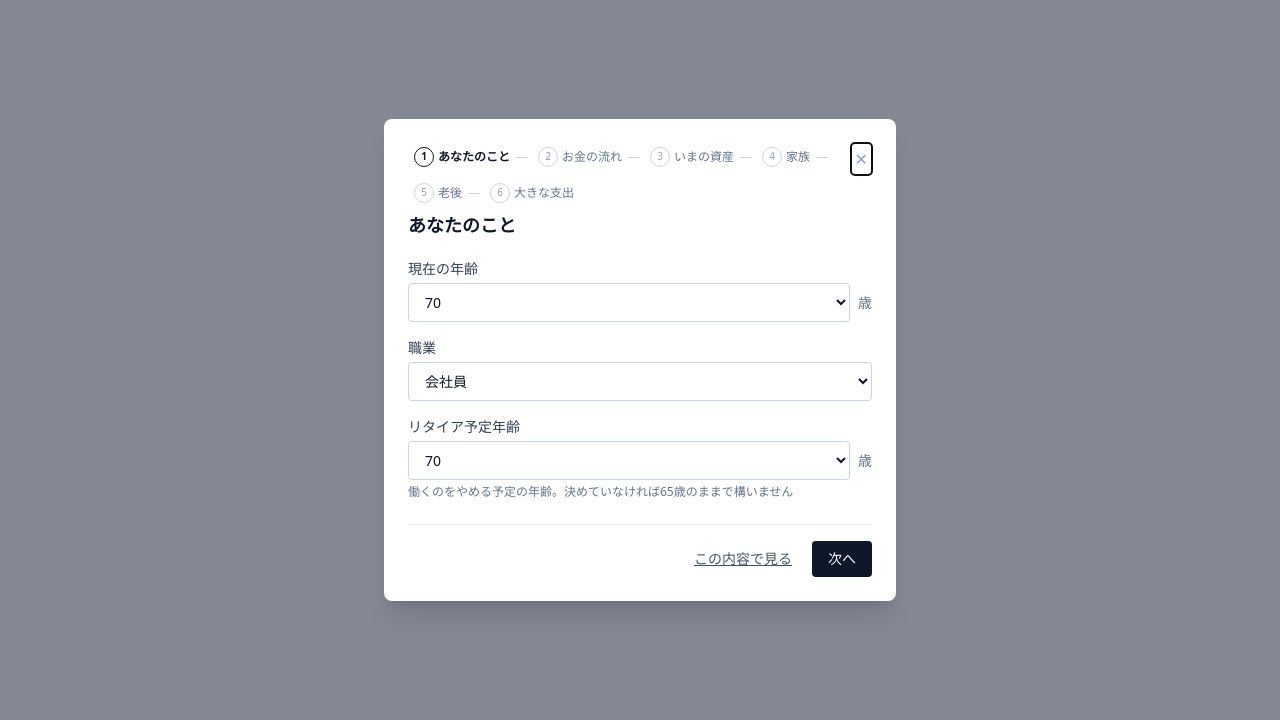
黙って間違う条件の警告（Finding C1） › Step 4: 年金受給開始年齢が現在年齢を下回ると警告が出る
Click the button "次へ". click: point(842, 559)
box: [812,541,872,577]
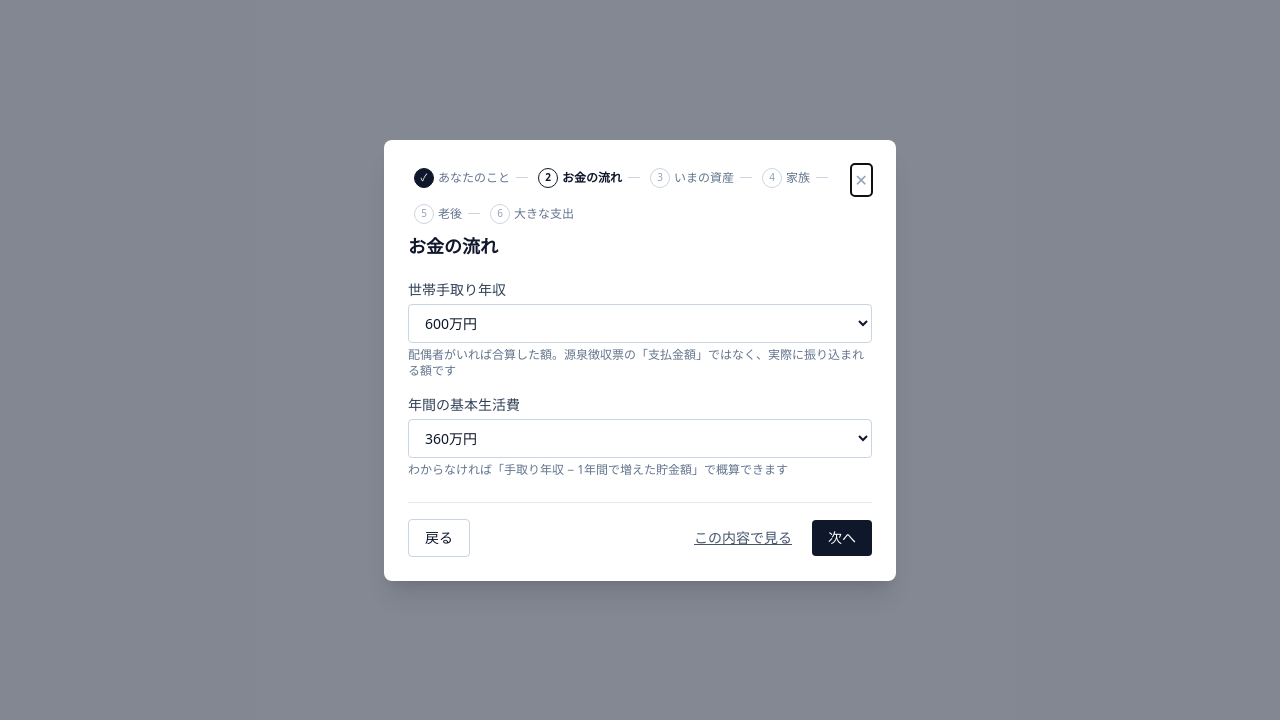
Click the button "次へ". click: point(842, 538)
box: [812,520,872,556]
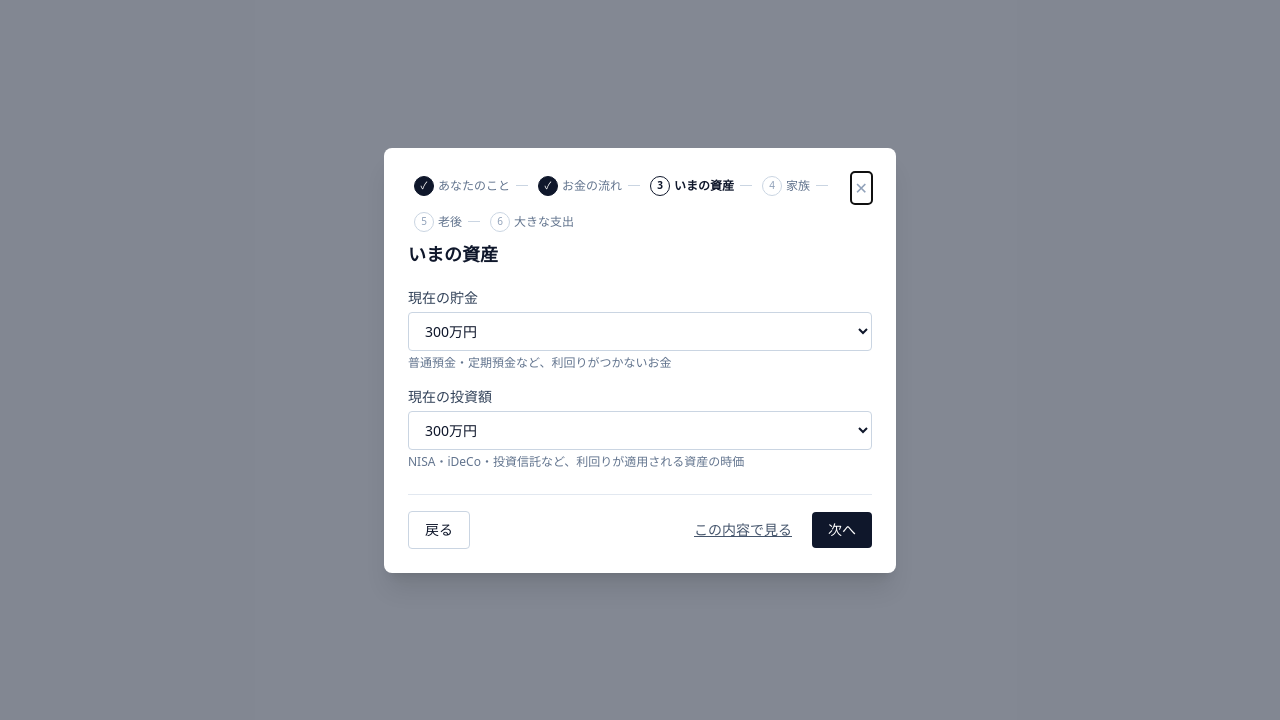
Click the button "次へ". click: point(842, 530)
box: [812,512,872,548]
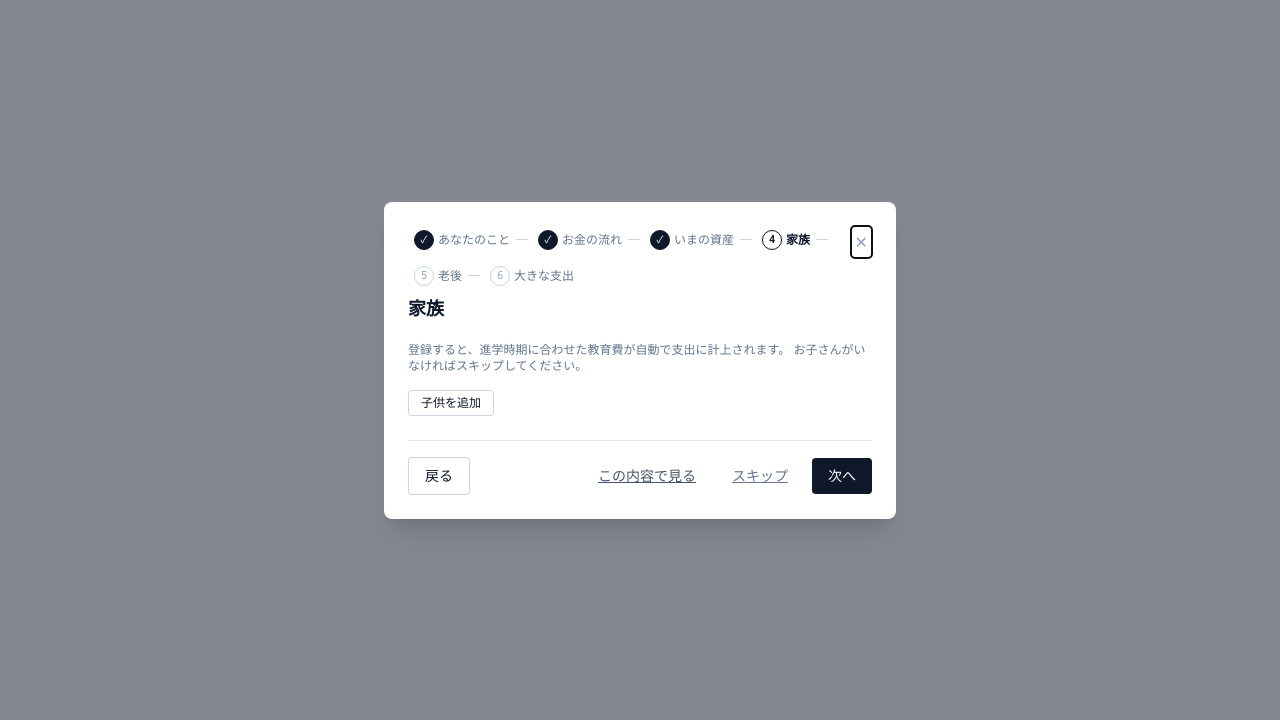
Click the button "次へ". click: point(842, 476)
box: [812,458,872,494]
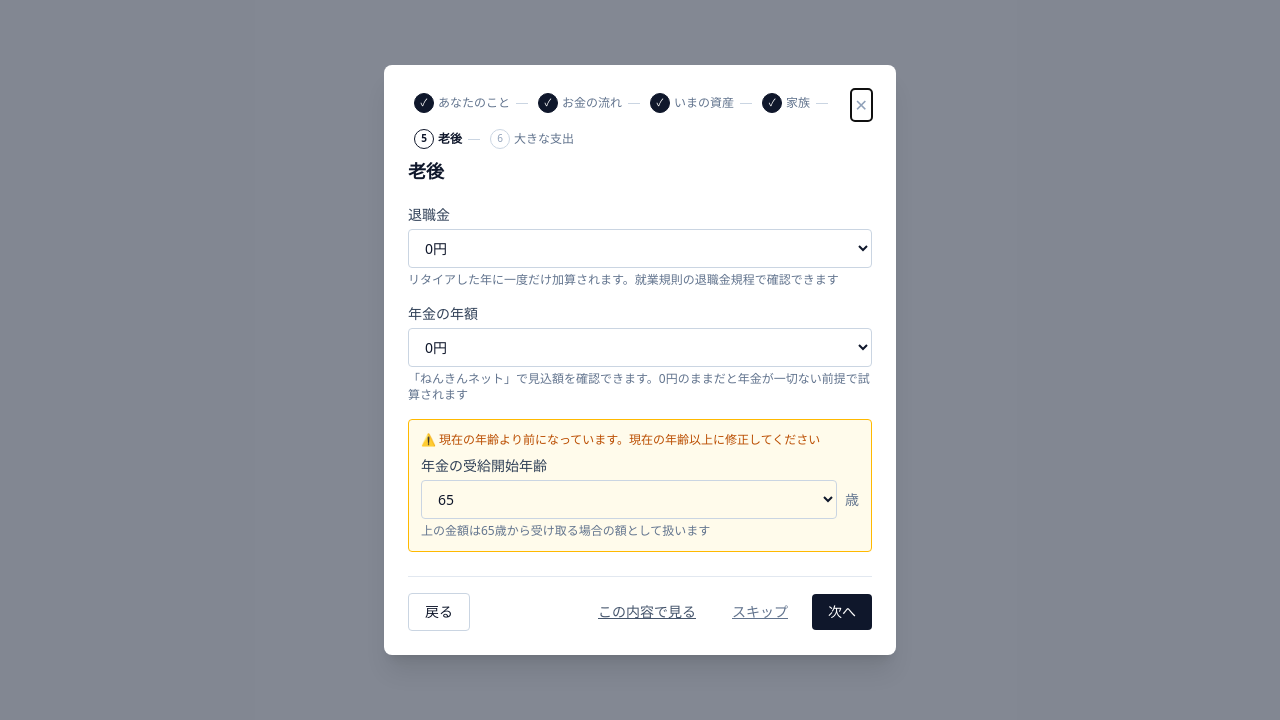
Expected: the text "⚠️ 現在の年齢より前になっています。現在の年齢以上に修正してください" is shown, [421,432,859,448]
